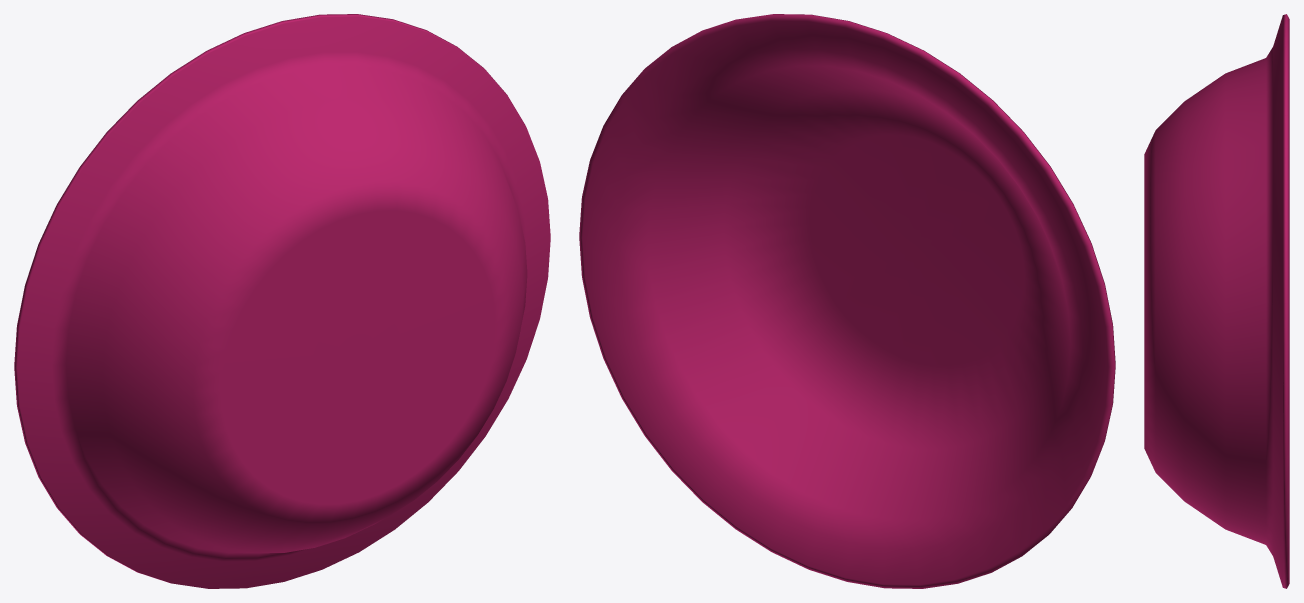
Rendered from SM_Dishes_08.fbx.
3 views of the same model, side by side, from view 1: azimuth 30°, elevation 25°; view 2: azimuth 150°, elevation 25°; view 3: azimuth 270°, elevation 25° (orthographic). The views are drawn at different scales.
Parts seen in each view (by area): view 1: SM_Dishes_08; view 2: SM_Dishes_08; view 3: SM_Dishes_08.
Part boxes in pixels (x1,y1,x2,y2): SM_Dishes_08: (14,14,550,588); SM_Dishes_08: (579,14,1115,588); SM_Dishes_08: (1144,14,1289,588).
Bounding box in the file's own units: 39.14 × 39.14 × 9.91.
